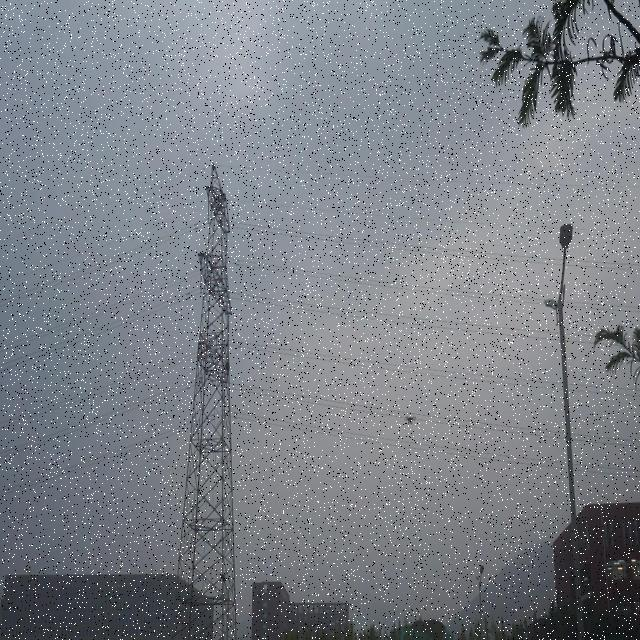UAV: (404, 415, 416, 425)
